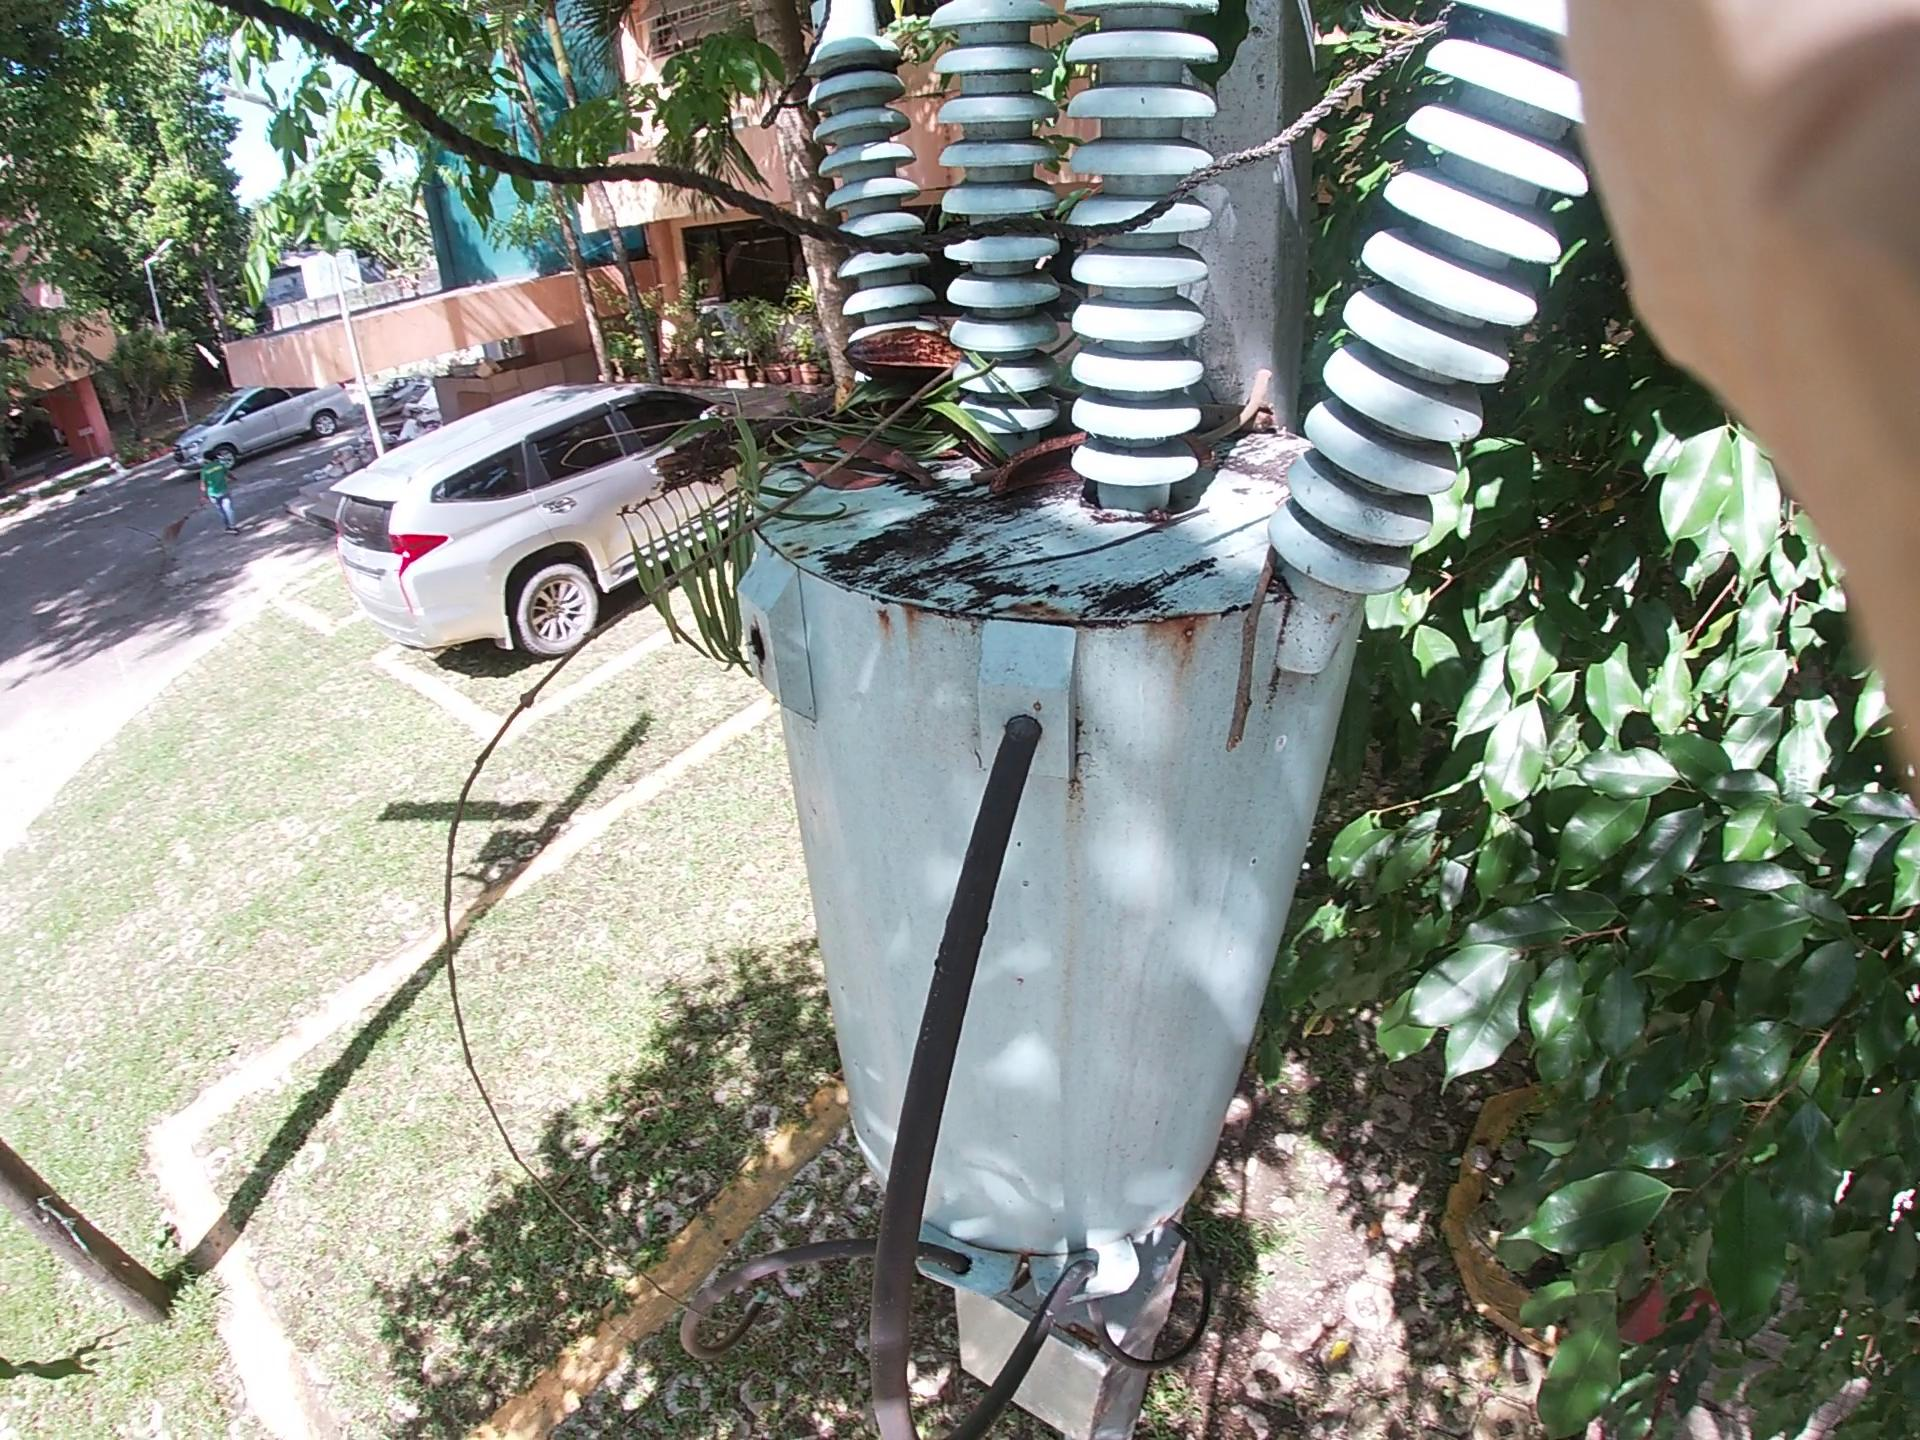branch with leaves: (683, 225, 963, 560)
leaf: (774, 395, 921, 502)
mahogany fruit: (801, 272, 989, 464), (958, 384, 1104, 517)
tree branch: (125, 380, 930, 1221), (924, 365, 1379, 531), (1240, 451, 1281, 711)
